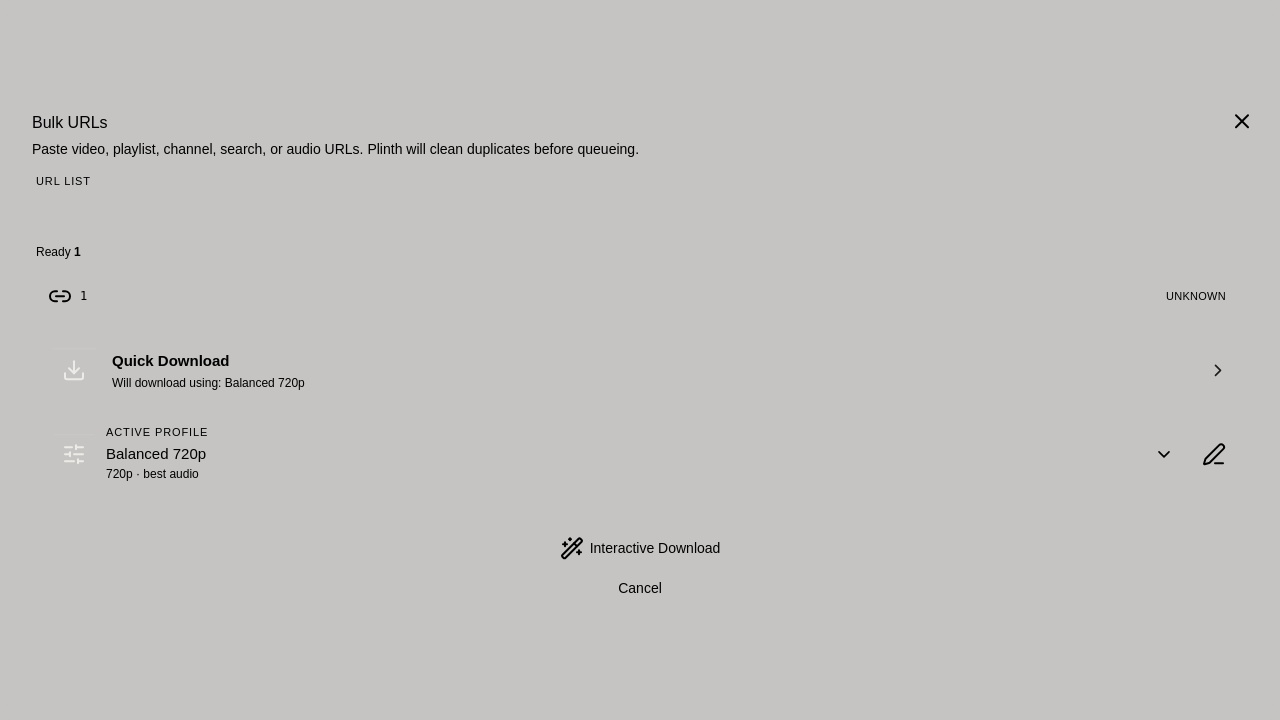
Test case: BulkUrlDialog › renders a compact profile-aware quick download control
This screenshot has width=1280, height=720.
Expected: the button with test id "bulk-quick-download" shows "Quick Download", [36, 332, 1244, 408]
Click the button with aria-label "Switch download profile: Balanced 720p" at (74, 455), box [48, 420, 1188, 489]
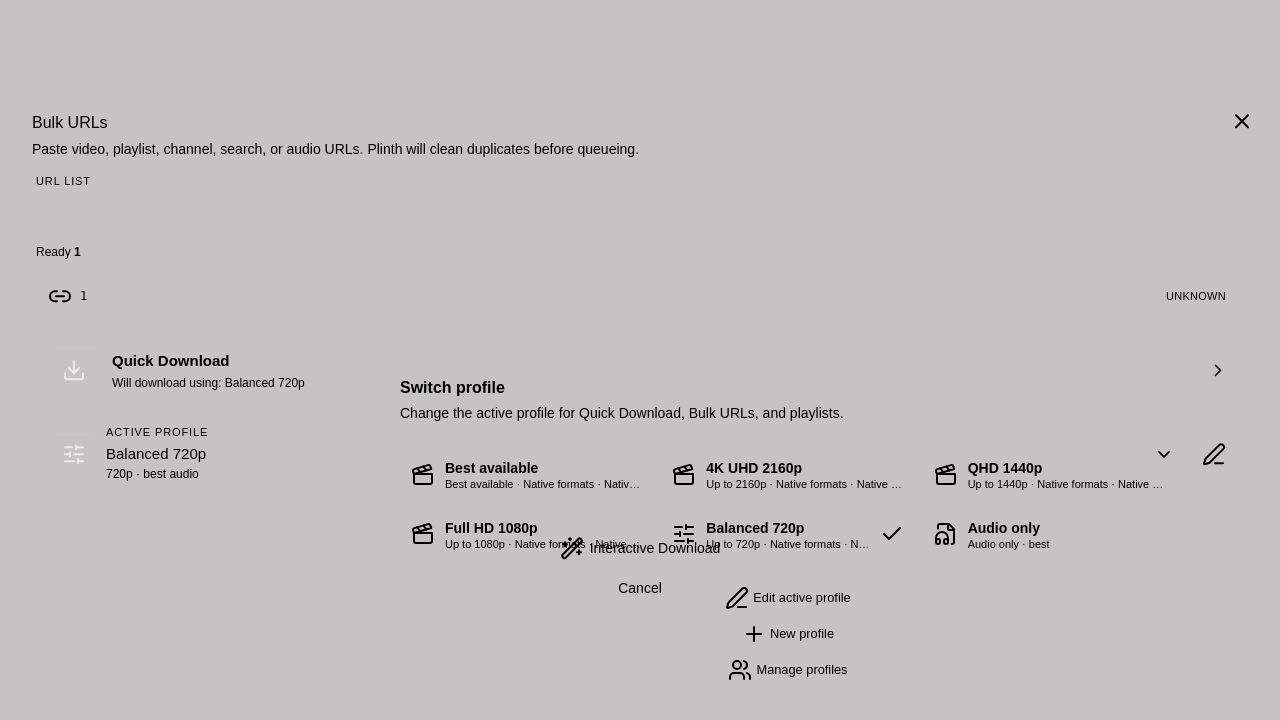
Result: the dialog with test id "bulk-profile-menu" is shown at [388, 364, 1188, 696]
